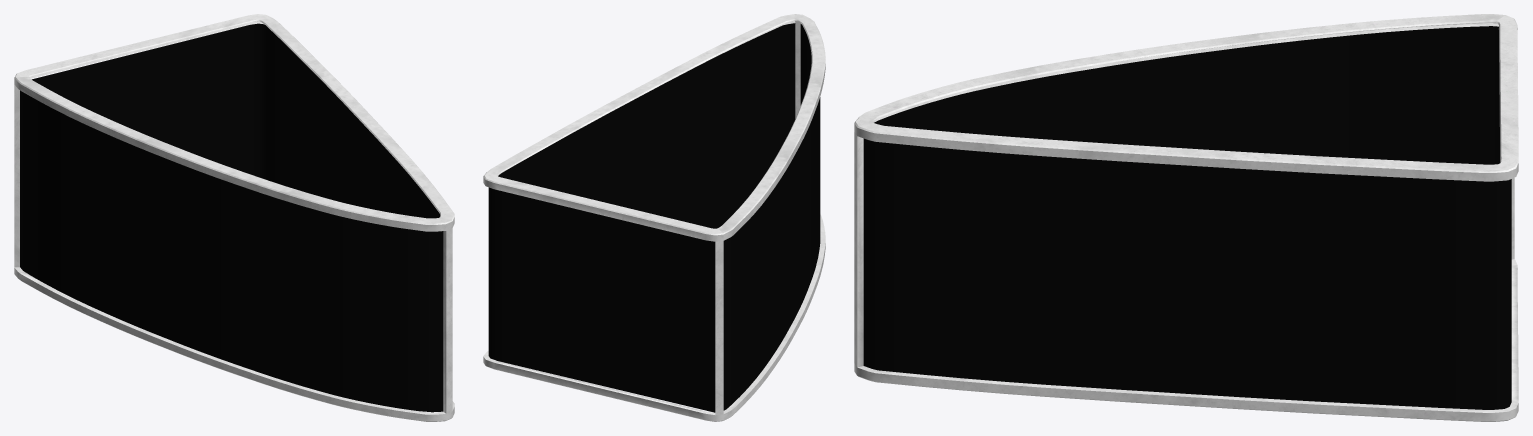
3 renders of one model, left to right at view 1: azimuth 30°, elevation 25°; view 2: azimuth 150°, elevation 25°; view 3: azimuth 270°, elevation 25°, orthographic. The views are drawn at different scales.
Visible parts, largest first — view 1: Screen2, SM_SmallArea_.009, SM_SmallArea_.011; view 2: SM_SmallArea_.009, Screen2, SM_SmallArea_.011; view 3: SM_SmallArea_.009, Screen2, SM_SmallArea_.011.
Part boxes in pixels (x1,y1,x2,y2): Screen2: [20, 90, 443, 412]; SM_SmallArea_.009: [32, 23, 439, 218]; SM_SmallArea_.011: [14, 14, 454, 421]; SM_SmallArea_.009: [488, 23, 795, 412]; Screen2: [723, 24, 820, 410]; SM_SmallArea_.011: [483, 14, 825, 421]; SM_SmallArea_.009: [863, 138, 1511, 409]; Screen2: [874, 26, 1499, 164]; SM_SmallArea_.011: [854, 14, 1518, 421].
Bounding box in the file's own units: 5.49 × 4.05 × 9.74.
